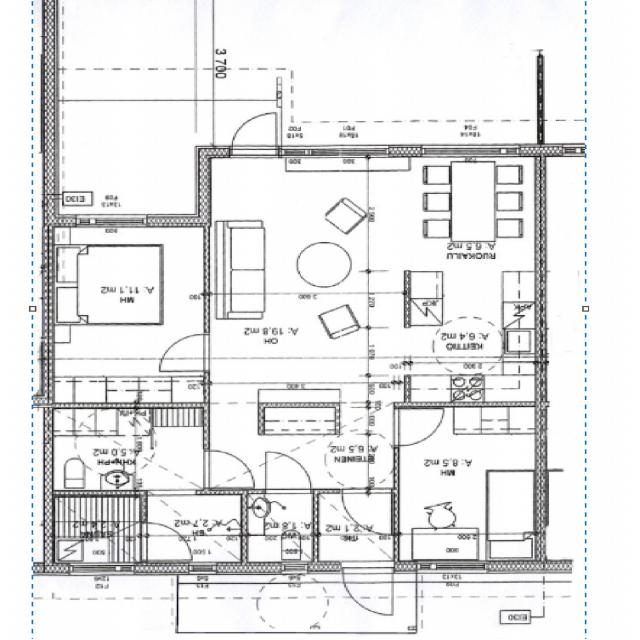door: (342, 561, 393, 613), (202, 450, 260, 488), (231, 111, 276, 158), (155, 334, 211, 371), (342, 491, 390, 534), (139, 523, 194, 560), (394, 408, 448, 445), (266, 456, 310, 496)
